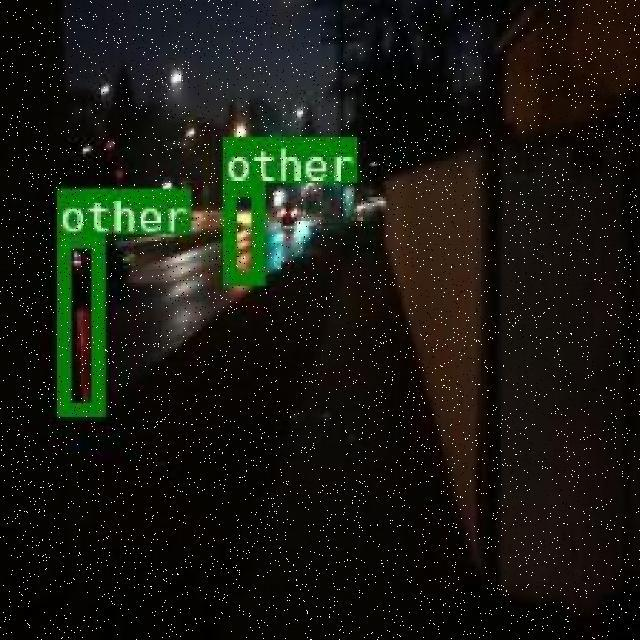other: (57, 232, 100, 412), (220, 181, 263, 281)
